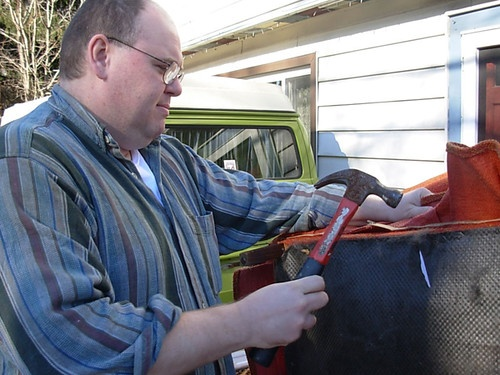hammer: (306, 170, 402, 279)
